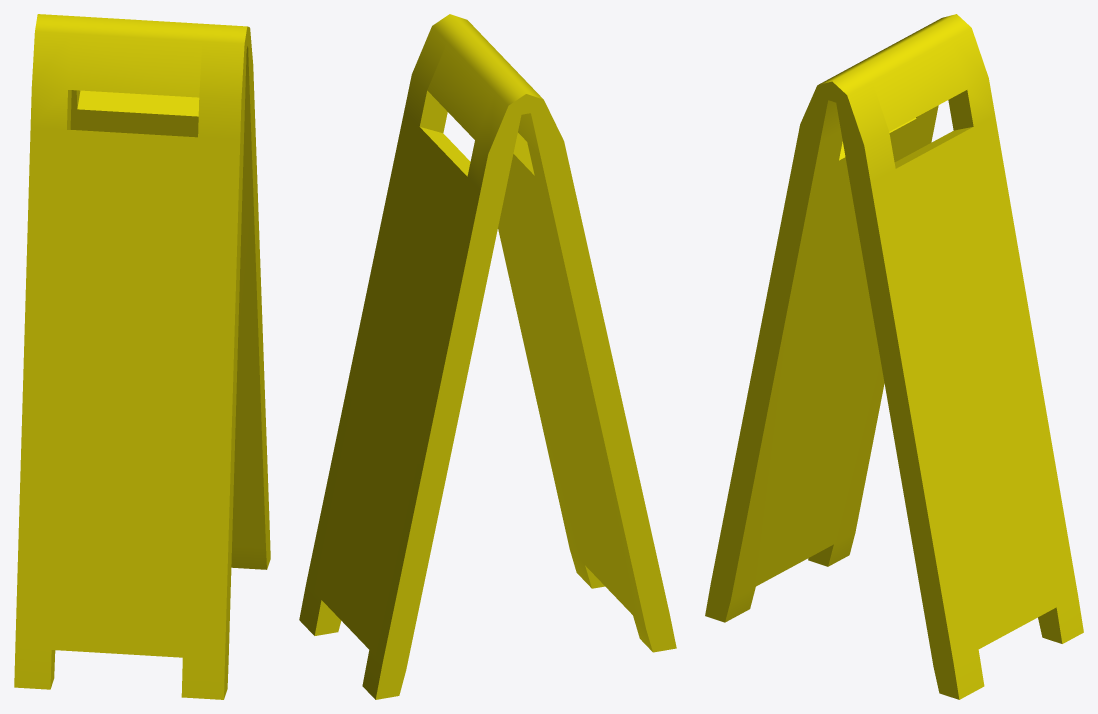
Rendered from Slippery.fbx.
The picture shows the model from 3 angles, left to right: view 1: azimuth 30°, elevation 25°; view 2: azimuth 150°, elevation 25°; view 3: azimuth 270°, elevation 25°; orthographic projection. The views are drawn at different scales.
Visible parts, largest first — view 1: Wet_Floor_Sign; view 2: Wet_Floor_Sign; view 3: Wet_Floor_Sign.
Part boxes in pixels (x1,y1,x2,y2): Wet_Floor_Sign: [14, 14, 270, 699]; Wet_Floor_Sign: [299, 14, 676, 699]; Wet_Floor_Sign: [705, 14, 1083, 699].
Bounding box in the file's own units: 48.73 × 86.55 × 51.56.
